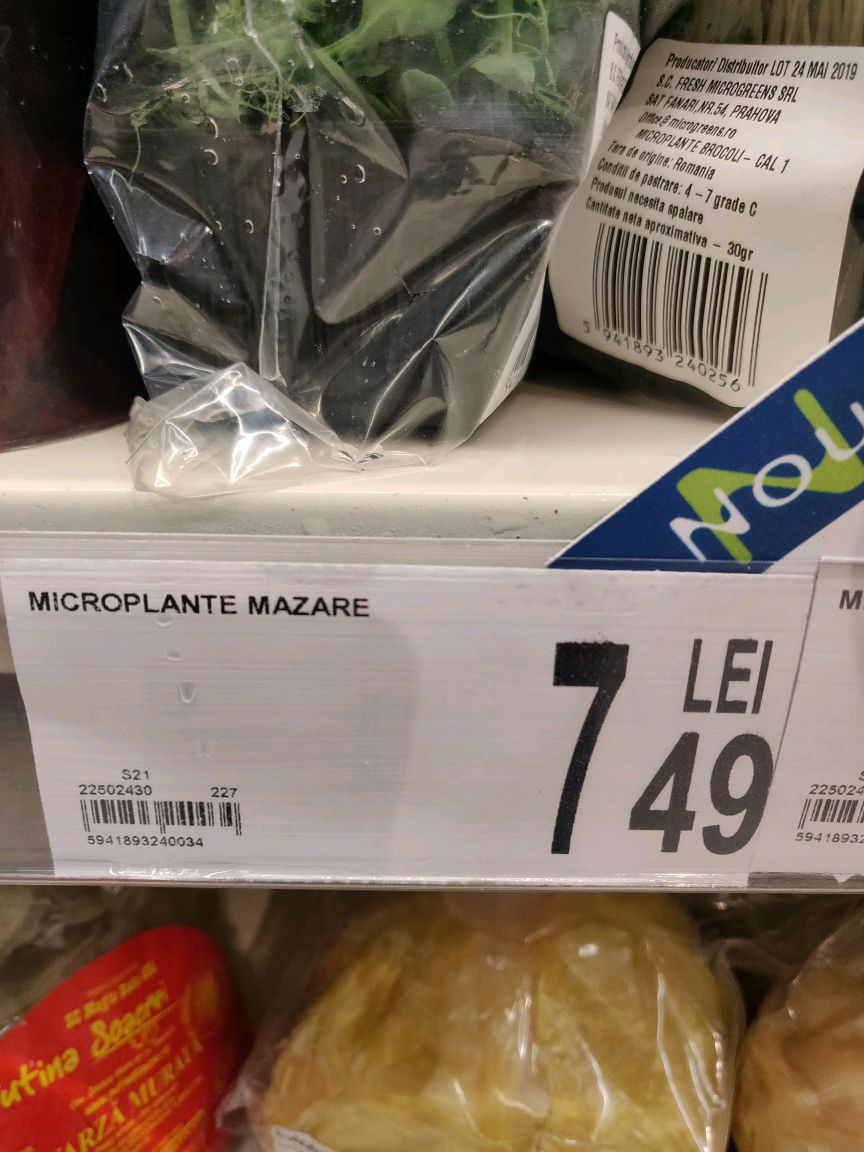price_bani: (619, 722, 783, 872)
price_lei: (538, 634, 633, 862)
price_tag: (5, 515, 818, 962)
product_id: (76, 829, 212, 854)
product_name: (22, 582, 382, 638)
